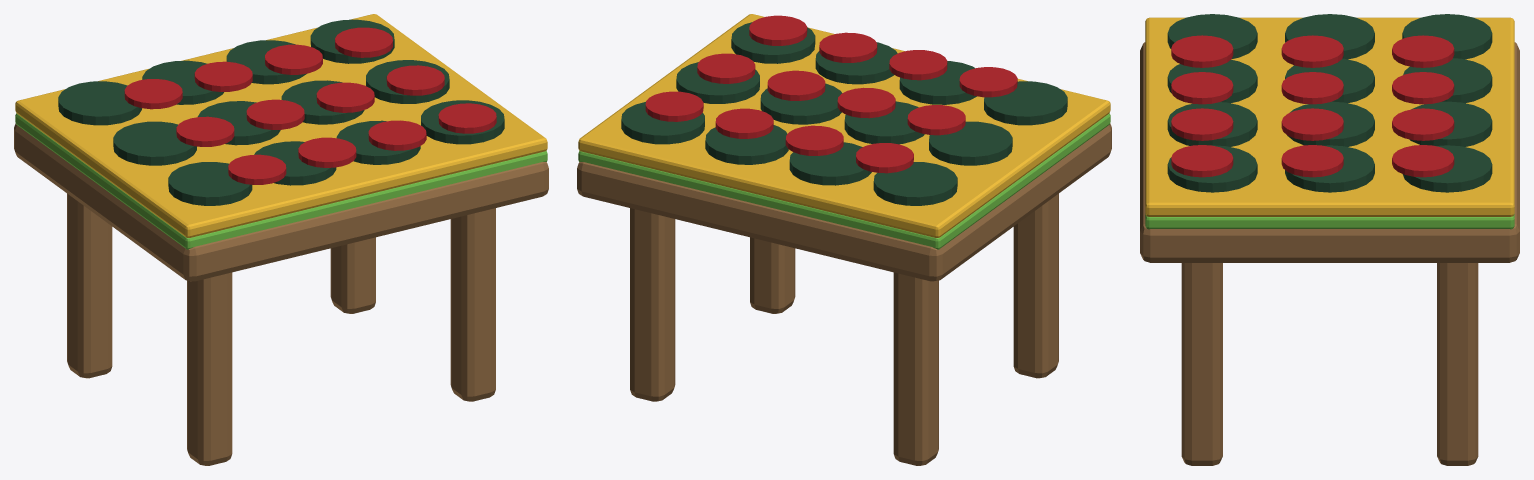
The model's file is better.glb.
3 renders of one model, left to right at view 1: azimuth 30°, elevation 25°; view 2: azimuth 150°, elevation 25°; view 3: azimuth 270°, elevation 25°, orthographic. The views are drawn at different scales.
Visible parts, largest first — view 1: Leg, Sandwich layer.002, Cucumber slice, Sandwich layer, Sandwich layer.001; view 2: Leg, Cucumber slice, Sandwich layer.002, Sandwich layer, Sandwich layer.001; view 3: Leg, Sandwich layer.002, Cucumber slice, Sandwich layer, Sandwich layer.001.
Part boxes in pixels (<box>): Leg: <box>14,123,548,465</box>; Sandwich layer.002: <box>15,14,547,237</box>; Cucumber slice: <box>58,19,504,205</box>; Sandwich layer: <box>124,27,496,184</box>; Sandwich layer.001: <box>15,113,547,249</box>; Leg: <box>577,123,1111,465</box>; Cucumber slice: <box>621,22,1067,205</box>; Sandwich layer.002: <box>578,14,1110,237</box>; Sandwich layer: <box>645,15,1017,173</box>; Sandwich layer.001: <box>578,113,1110,249</box>; Leg: <box>1140,42,1519,465</box>; Sandwich layer.002: <box>1145,17,1514,216</box>; Cucumber slice: <box>1167,14,1492,192</box>; Sandwich layer: <box>1171,35,1454,177</box>; Sandwich layer.001: <box>1145,214,1514,229</box>.
Size of the model in its own units: 1 by 0.7385 by 0.8462.
